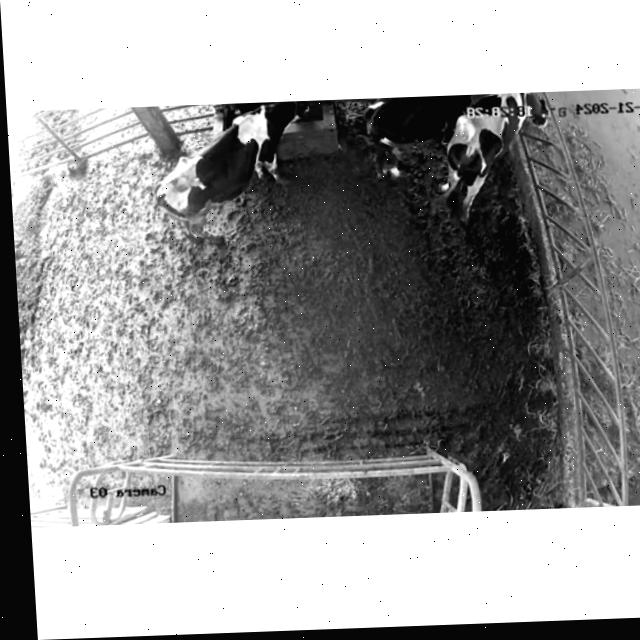drink: (247, 100, 327, 137)
eat: (490, 91, 564, 139)
stand: (352, 95, 479, 187)
